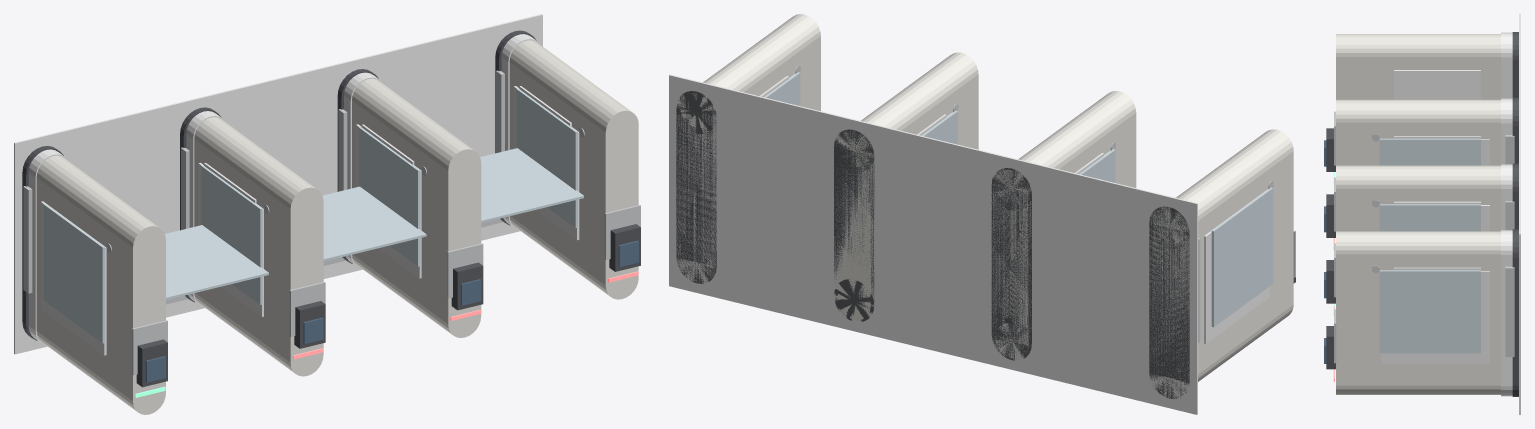
Rendered from Cửa sinh trắc học 3 cửa.glb.
The picture shows the model from 3 angles, left to right: view 1: azimuth 30°, elevation 25°; view 2: azimuth 150°, elevation 25°; view 3: azimuth 270°, elevation 25°; orthographic projection. The views are drawn at different scales.
Parts seen in each view (by area): view 1: world; view 2: world; view 3: world.
Part boxes in pixels (x1,y1,x2,y2): world: (14, 14, 640, 414); world: (669, 14, 1295, 414); world: (1324, 14, 1520, 414).
Size of the model in its own units: 3.46 by 1.32 by 1.3.
1 material, 1 textured.
